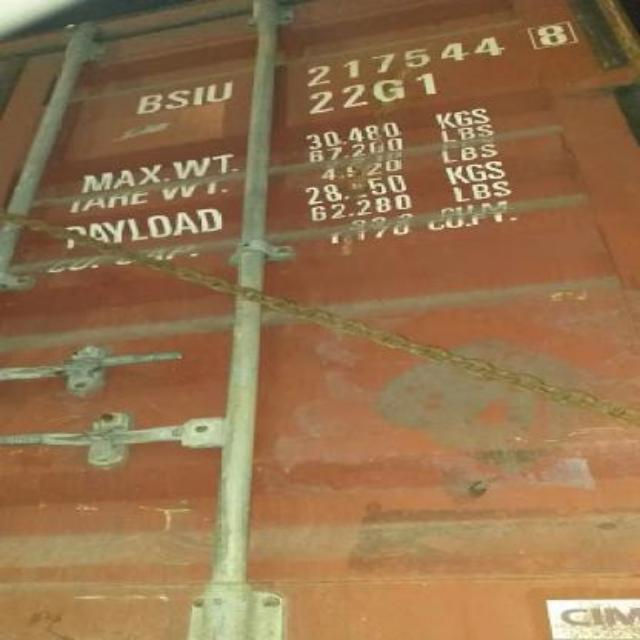1: (338, 56, 366, 80)
2: (304, 64, 336, 86)
4: (474, 36, 508, 56), (440, 42, 472, 62)
5: (402, 46, 434, 70)
7: (370, 51, 398, 74)
8: (532, 24, 572, 46)
B: (136, 94, 164, 115)
I: (192, 84, 205, 106)
S: (162, 88, 192, 110)
U: (206, 81, 236, 102)
